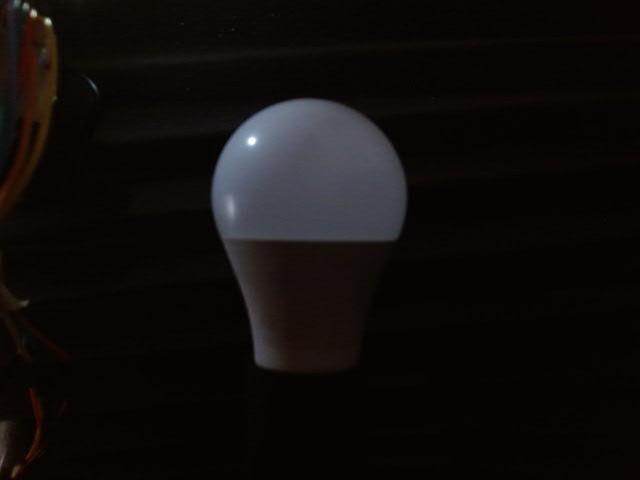Fan: (203, 84, 413, 286)
